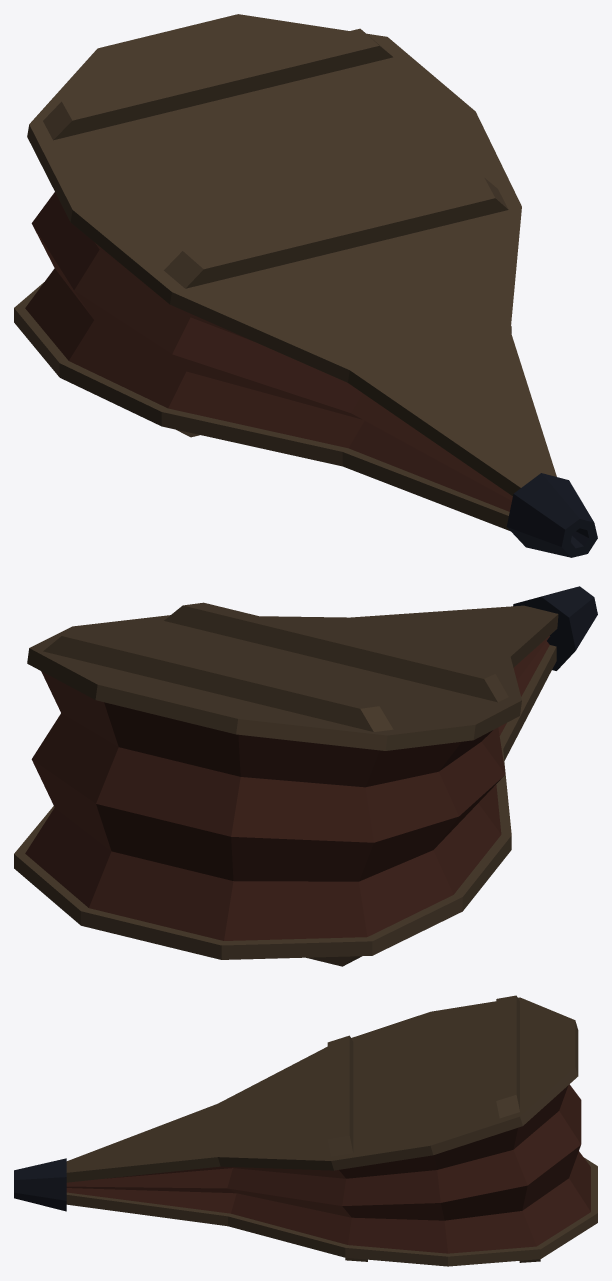
The model's file is BellowA.fbx.
3 renders of one model, top to bottom at view 1: azimuth 30°, elevation 25°; view 2: azimuth 150°, elevation 25°; view 3: azimuth 270°, elevation 25°, orthographic. The views are drawn at different scales.
Visible parts, largest first — view 1: BellowA; view 2: BellowA; view 3: BellowA.
Part boxes in pixels (bbox=[...]): BellowA: bbox=[14, 14, 597, 557]; BellowA: bbox=[14, 586, 597, 966]; BellowA: bbox=[14, 995, 597, 1266].
Size of the model in its own units: 55.71 by 32.62 by 103.
